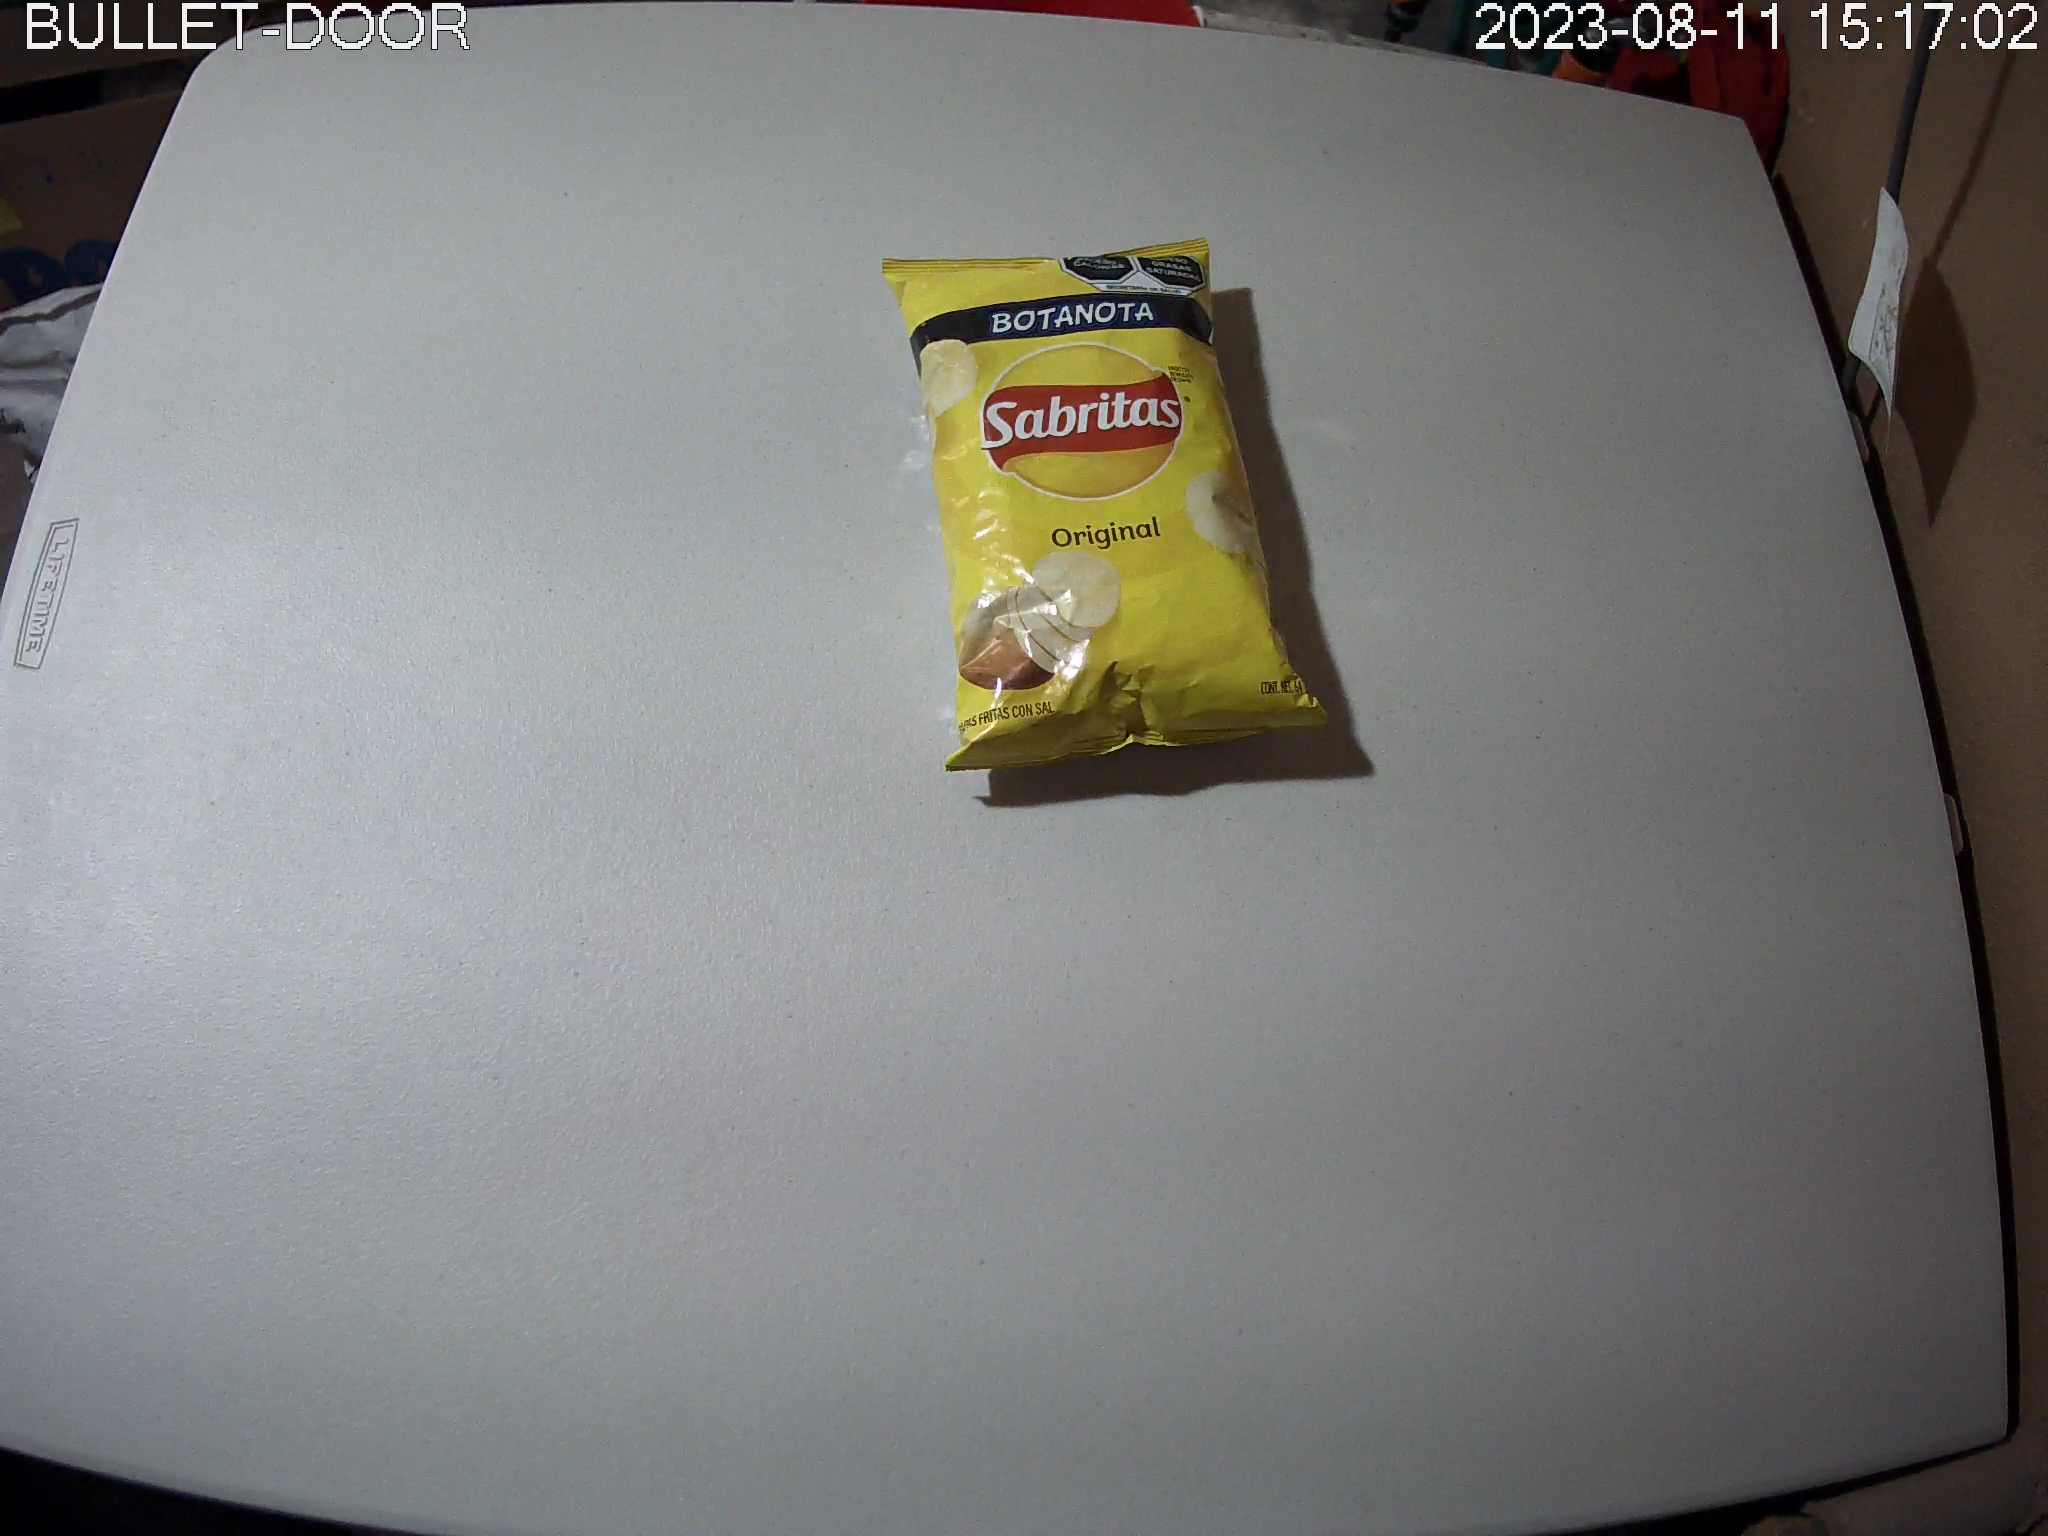Sabritas_64_F: (877, 236, 1334, 770)
